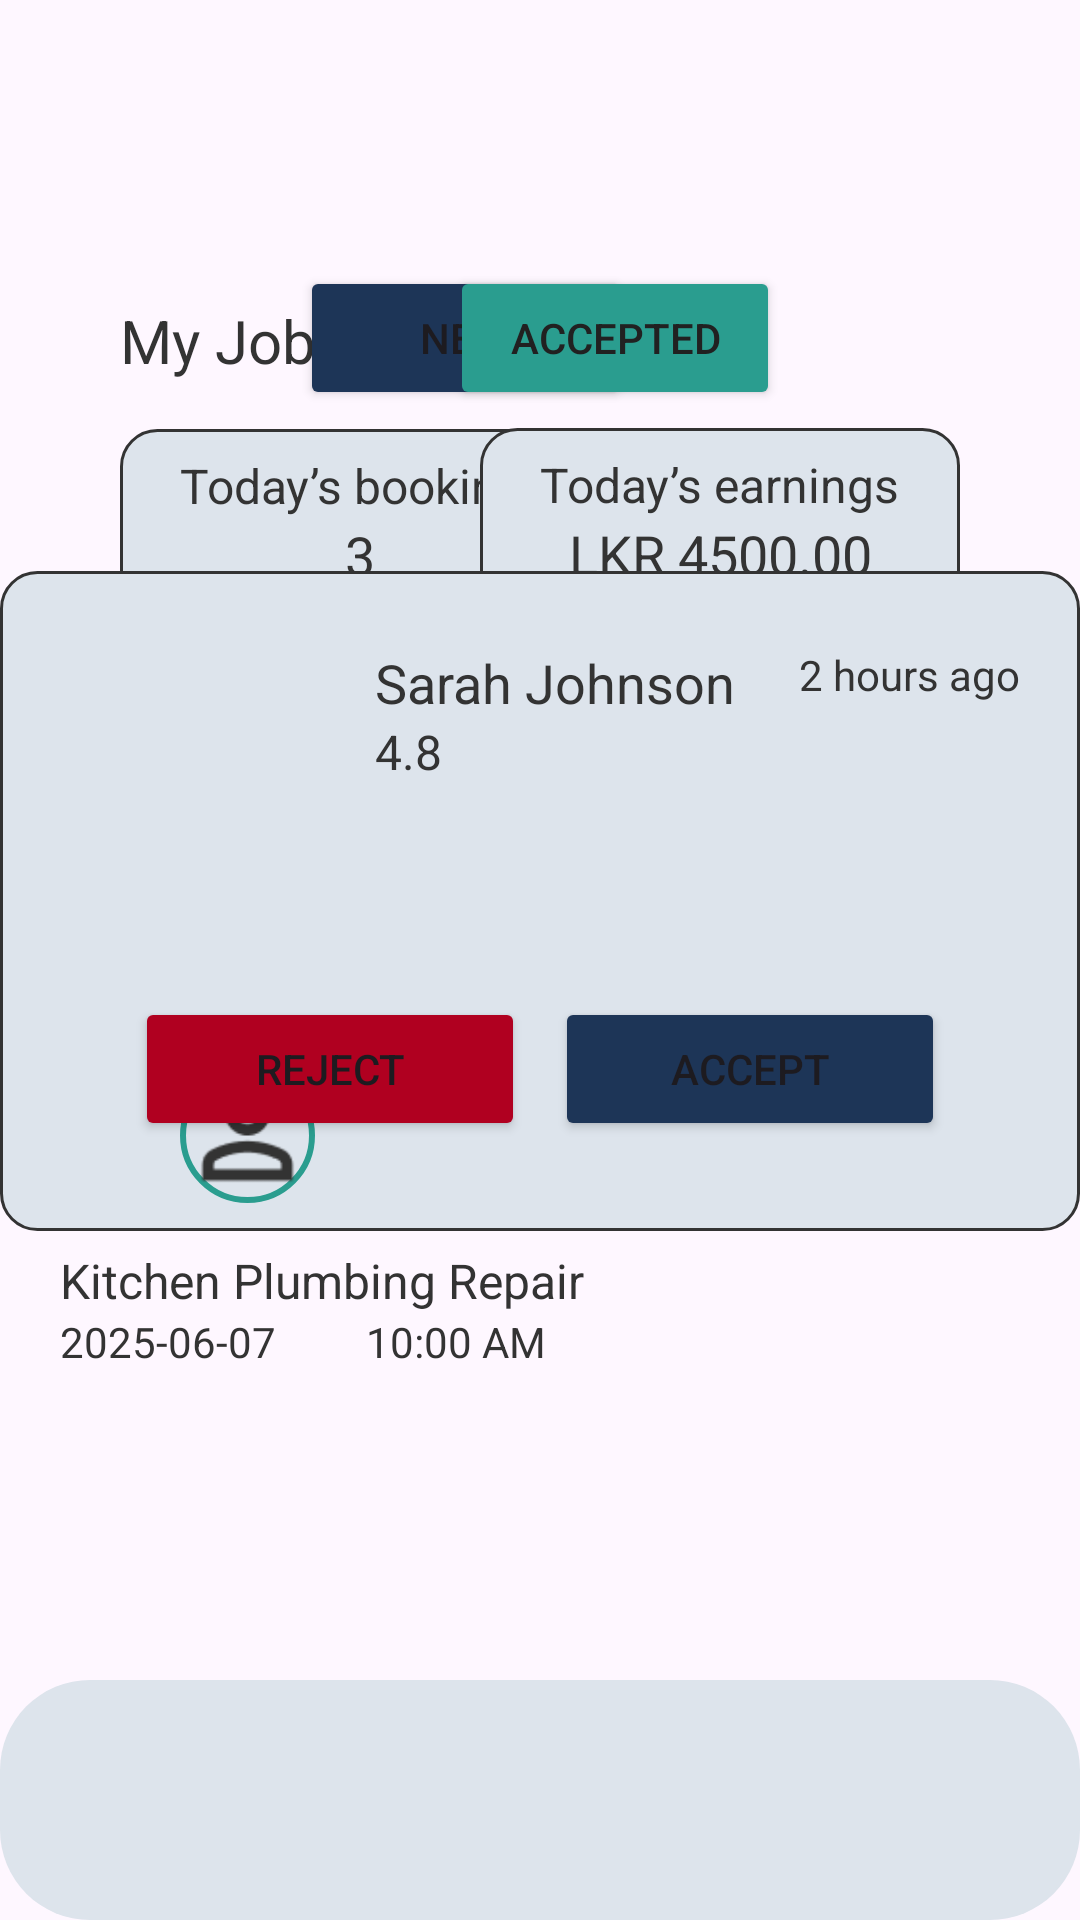

Named icons in this screenshot (1080px x 1920px) and their centers, point (x, y):
person1: point (247, 1135)
